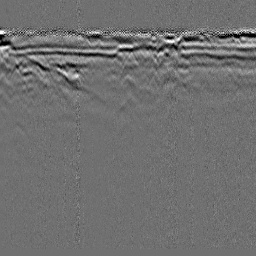cavity: (120, 73, 136, 87)
